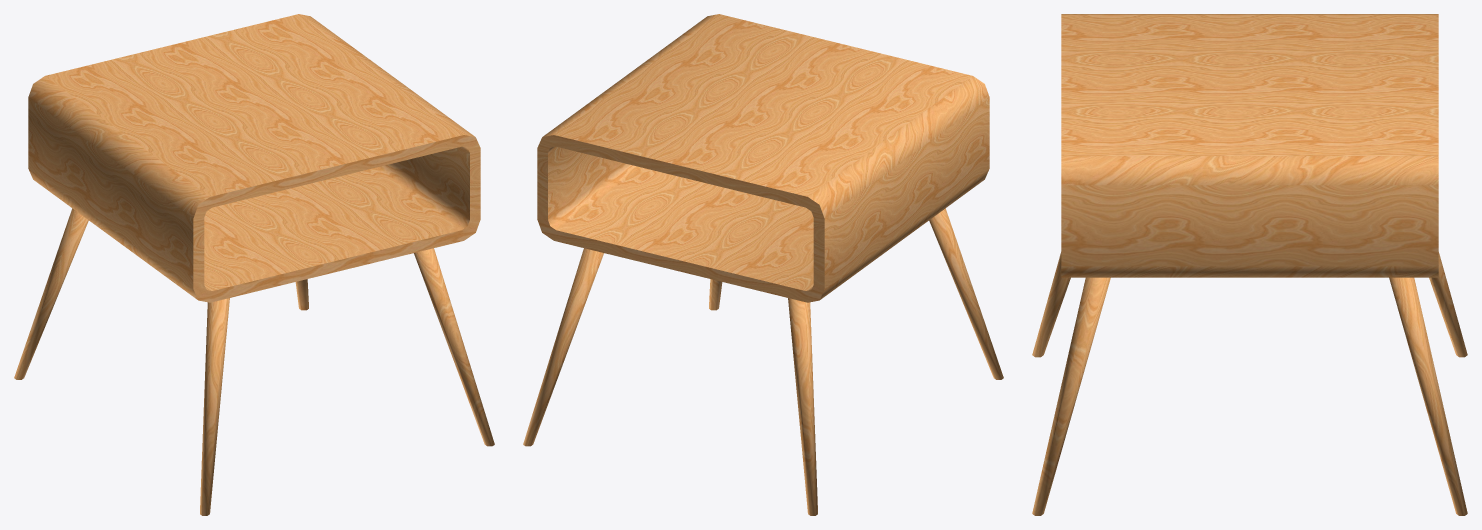
The model's file is polka.glb.
The picture shows the model from 3 angles, left to right: view 1: azimuth 30°, elevation 25°; view 2: azimuth 150°, elevation 25°; view 3: azimuth 270°, elevation 25°; orthographic projection. The views are drawn at different scales.
Visible parts, largest first — view 1: end_table; view 2: end_table; view 3: end_table.
Part boxes in pixels (<box>): end_table: <box>14,14,494,515</box>; end_table: <box>523,14,1003,515</box>; end_table: <box>1032,14,1467,515</box>.
Bounding box in the file's own units: 0.5092 × 0.5088 × 0.5754.
1 material, 1 textured.
